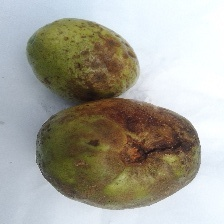guava: (62, 45, 199, 223)
